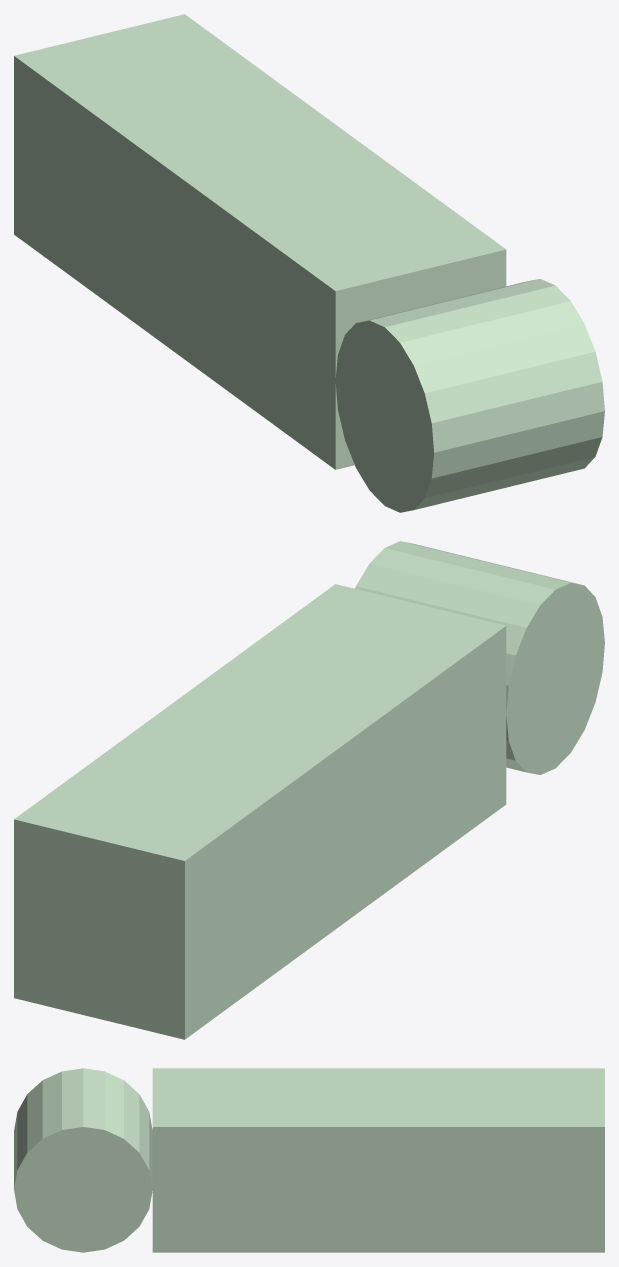
File: LARM_LINK2_mesh.dae
3 views of the same model, one above another, from view 1: azimuth 30°, elevation 25°; view 2: azimuth 150°, elevation 25°; view 3: azimuth 270°, elevation 25° (orthographic). The views are drawn at different scales.
Visible parts, largest first — view 1: LARM_LINK2 (×2); view 2: LARM_LINK2 (×2); view 3: LARM_LINK2 (×2).
Part boxes in pixels (x1,y1,x2,y2): LARM_LINK2 (×2): [14, 14, 604, 512]; LARM_LINK2 (×2): [14, 541, 604, 1039]; LARM_LINK2 (×2): [14, 1068, 604, 1252].
Bounding box in the file's own units: 0.05 × 0.05 × 0.213.
